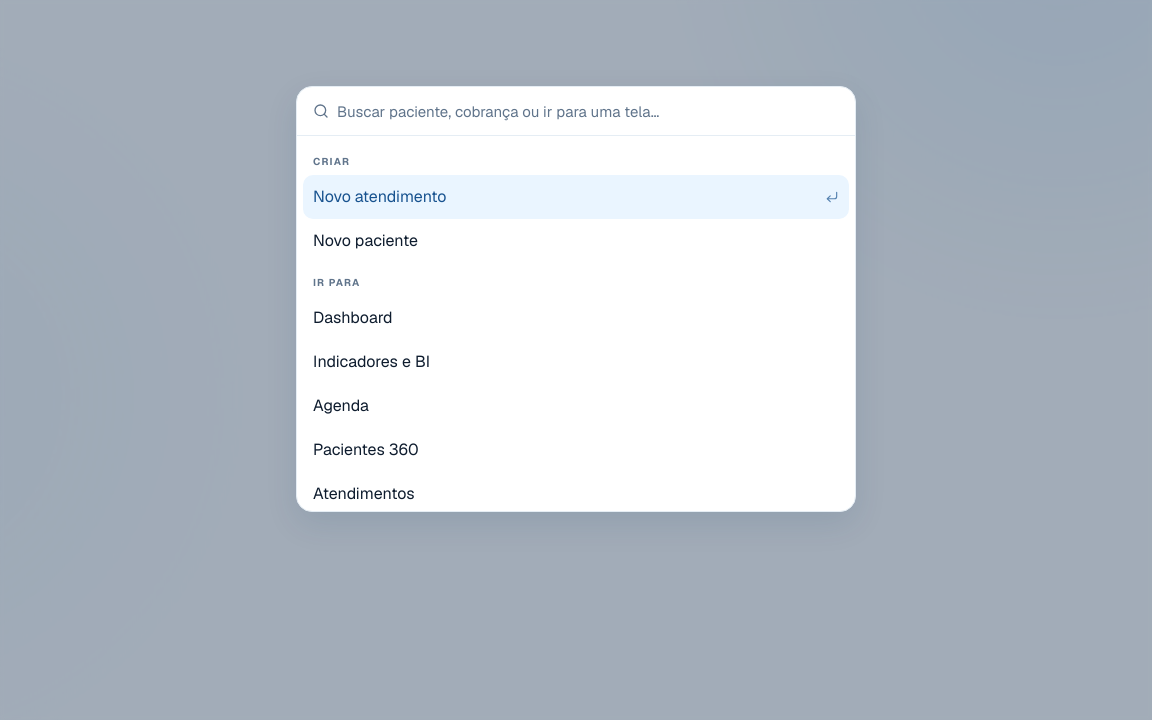
Test: filtragem › ignora acento e caixa
The width and height of the screenshot is (1152, 720).
Type "PRONTUARIOS" into the dropdown. click: (588, 111)
box: [337,87,839,135]
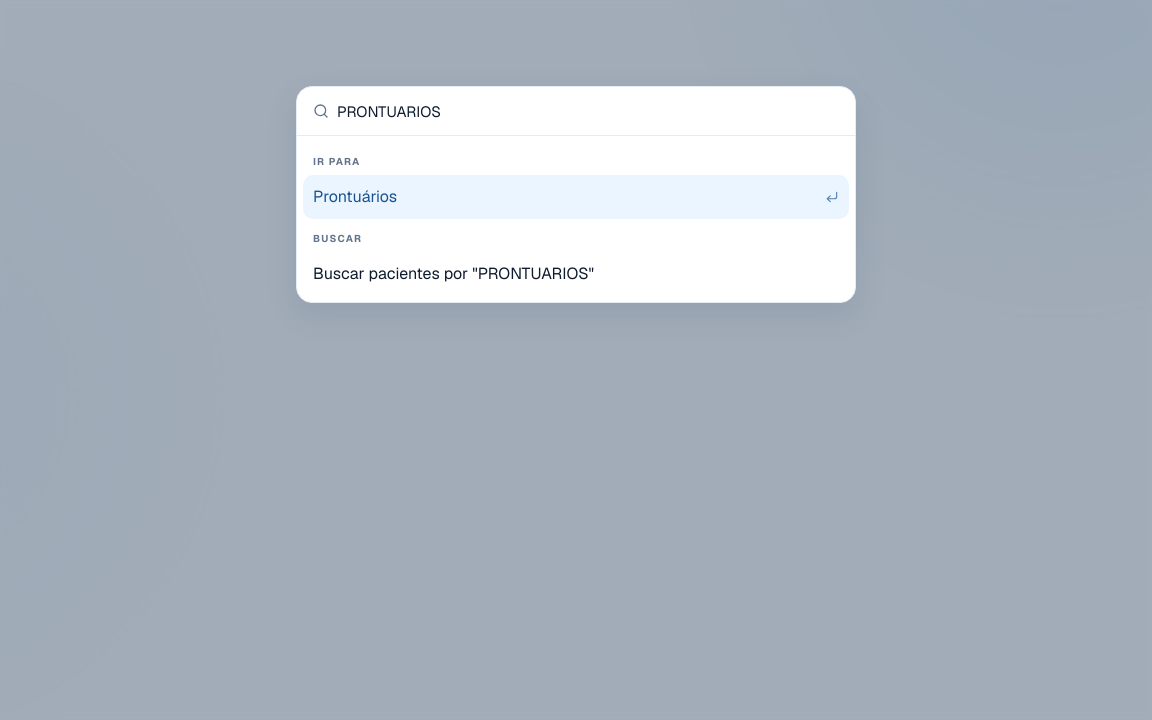
Check: the text "Prontuários" is shown, box [313,186,397,207]
